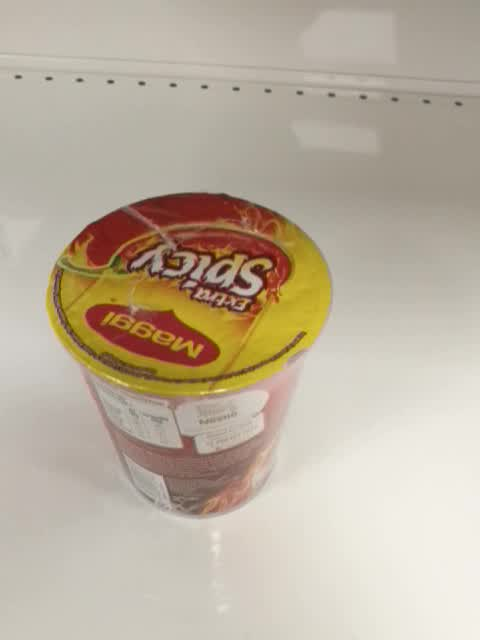maggi: (45, 192, 333, 520)
